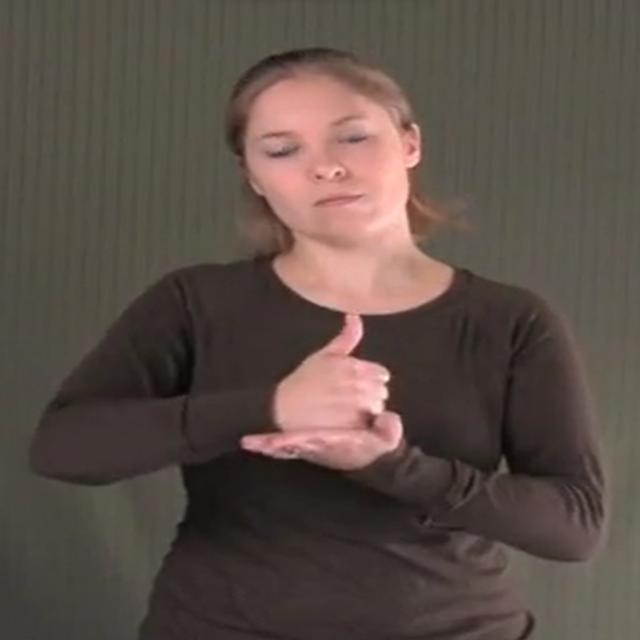help: (240, 313, 404, 472)
